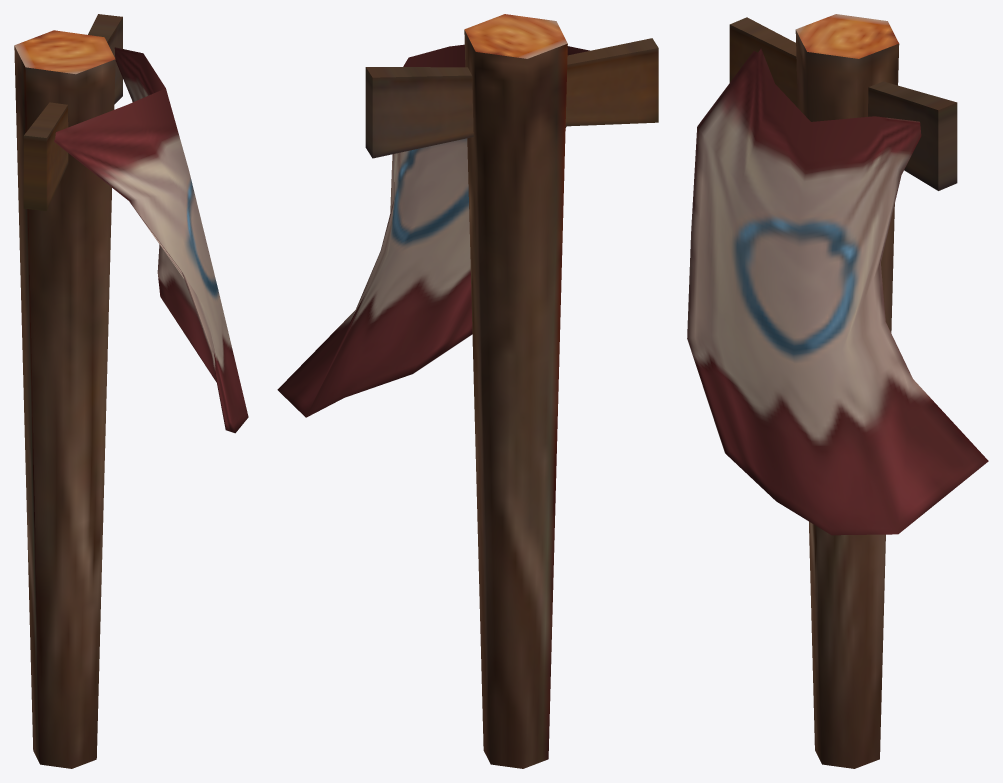
File: qizi_0011.FBX
3 views of the same model, side by side, from view 1: azimuth 30°, elevation 25°; view 2: azimuth 150°, elevation 25°; view 3: azimuth 270°, elevation 25° (orthographic). The views are drawn at different scales.
Parts seen in each view (by area): view 1: qizi_001; view 2: qizi_001; view 3: qizi_001.
Part boxes in pixels (bbox=[...]): qizi_001: bbox=[14, 14, 248, 768]; qizi_001: bbox=[277, 14, 658, 768]; qizi_001: bbox=[687, 14, 988, 768].
Size of the model in its own units: 83.14 by 206 by 78.43.
